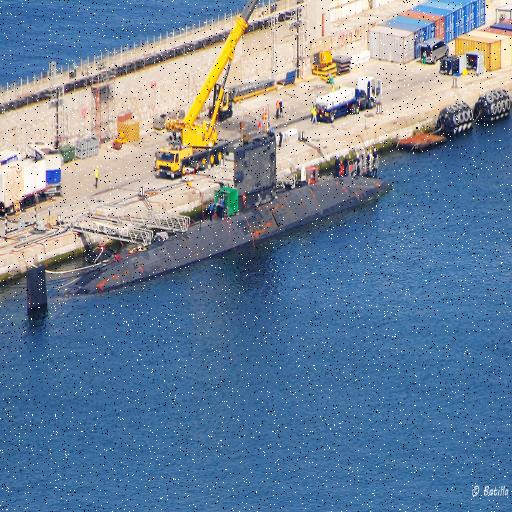submarine: (21, 131, 386, 314)
